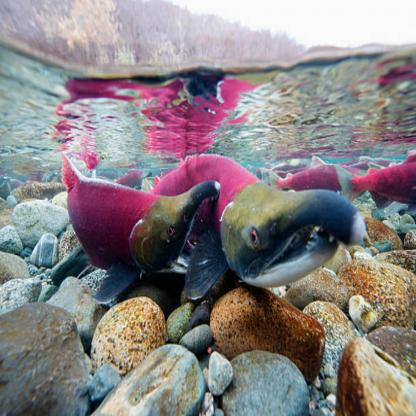sockeye: (144, 163, 367, 275), (58, 162, 210, 276), (267, 152, 414, 209)
sockeye-group: (57, 151, 416, 275)
